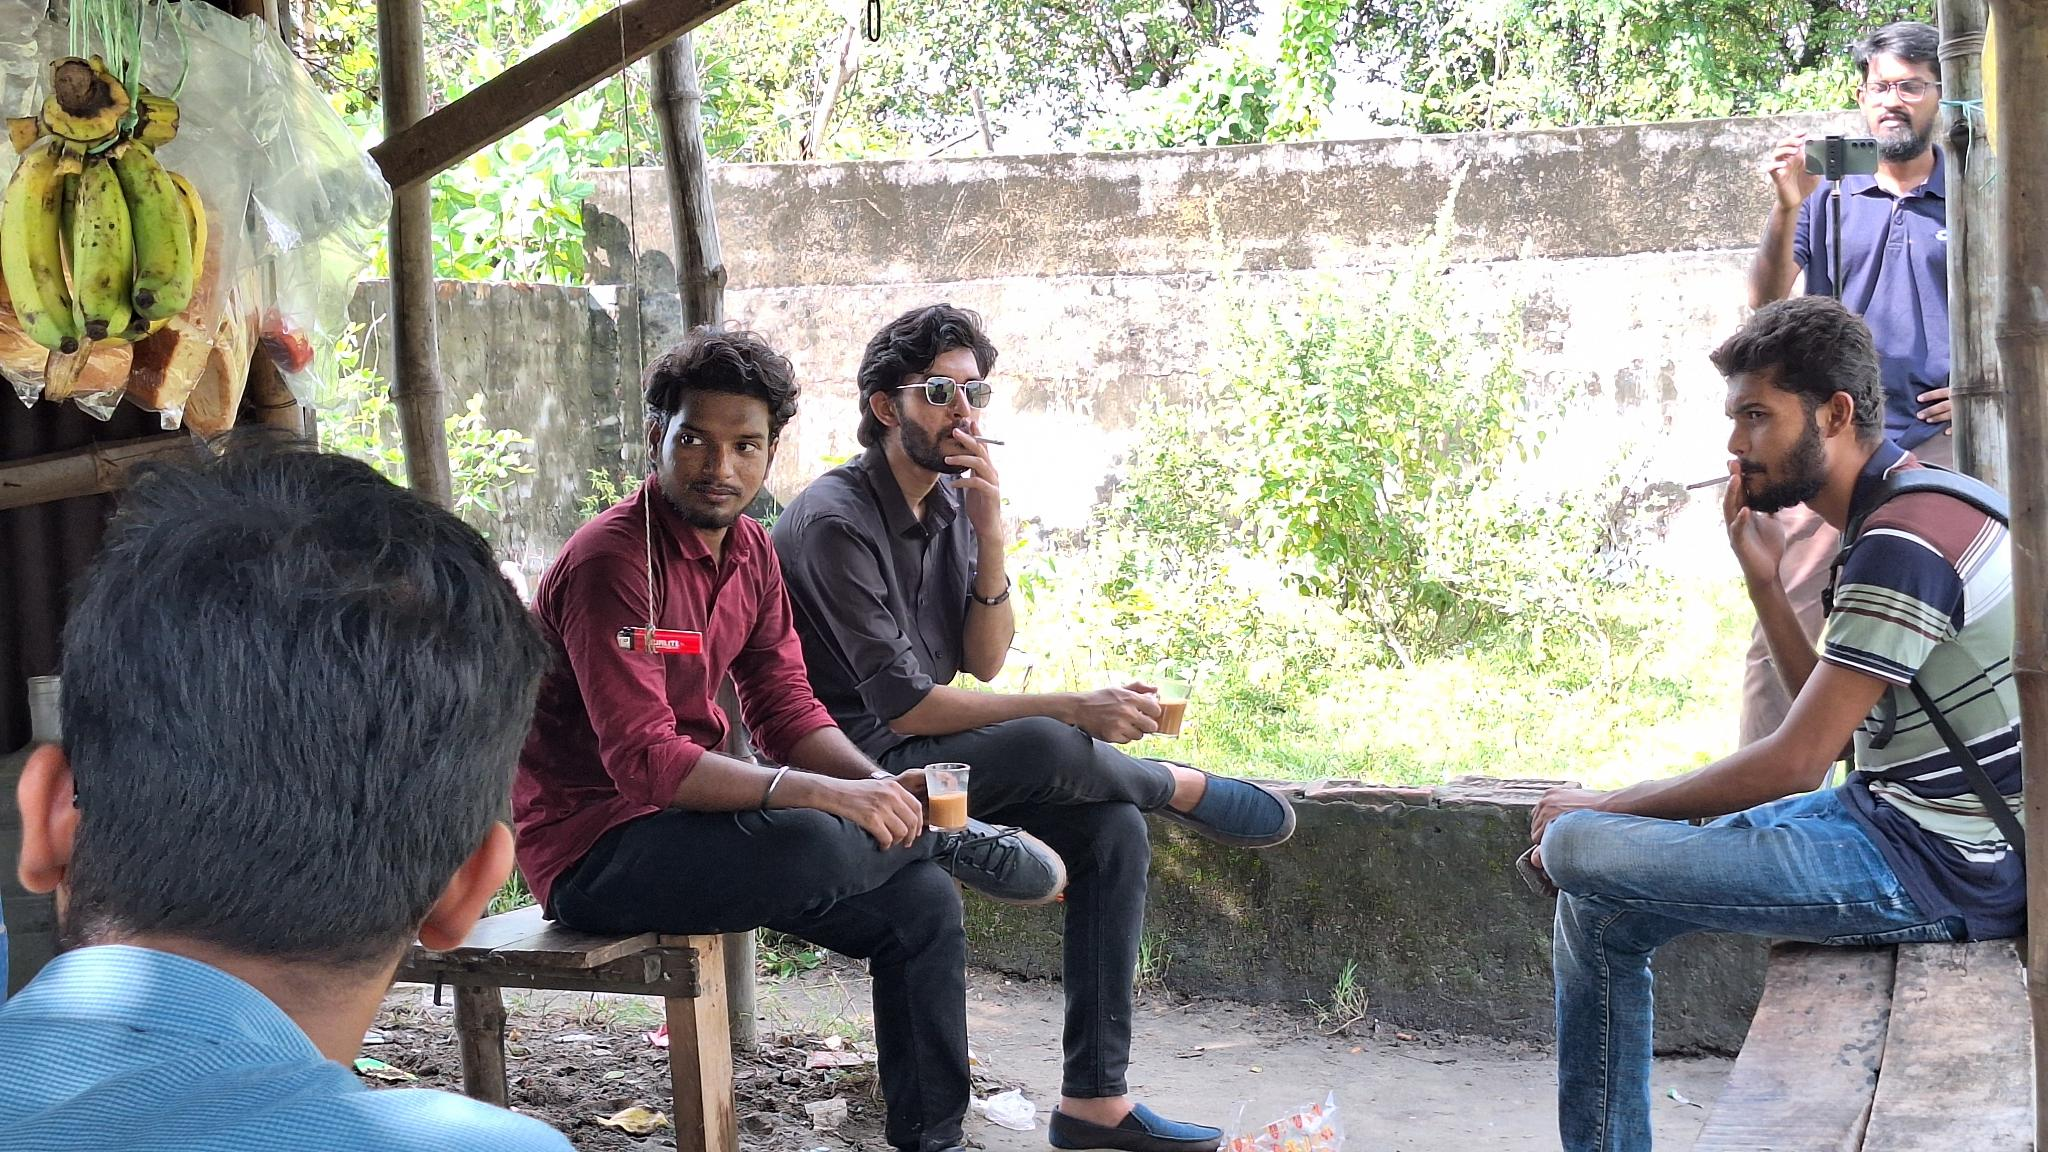cigarette: (1684, 467, 1748, 494), (965, 430, 1009, 450)
nonSmoker: (505, 333, 1062, 1152), (0, 442, 584, 1152), (1751, 24, 1961, 466)
smoker: (775, 302, 1301, 1152), (1509, 295, 2023, 1152)
